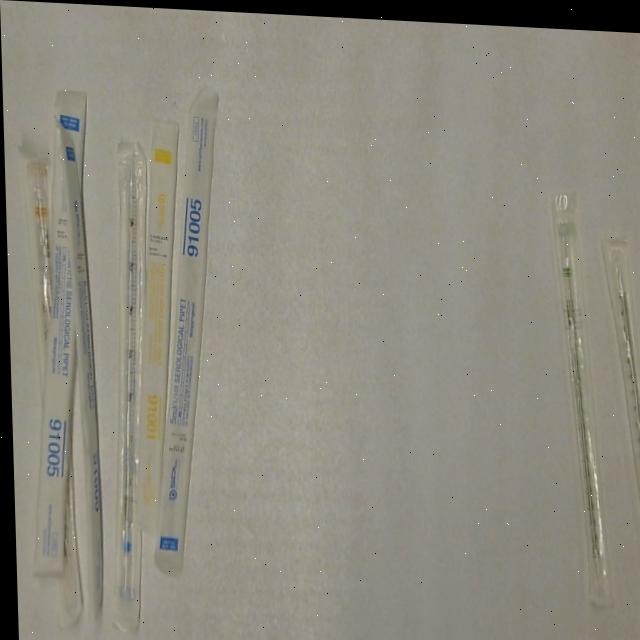Serelogical Pipet 1 mL: (117, 115, 190, 540)
Serelogical Pipet 10 mL: (19, 147, 70, 408)
Serelogical Pipet 2 mL: (546, 181, 612, 608)
Serelogical Pipet 5 mL: (138, 81, 233, 581), (16, 83, 100, 581), (96, 139, 159, 637), (52, 112, 105, 626)
